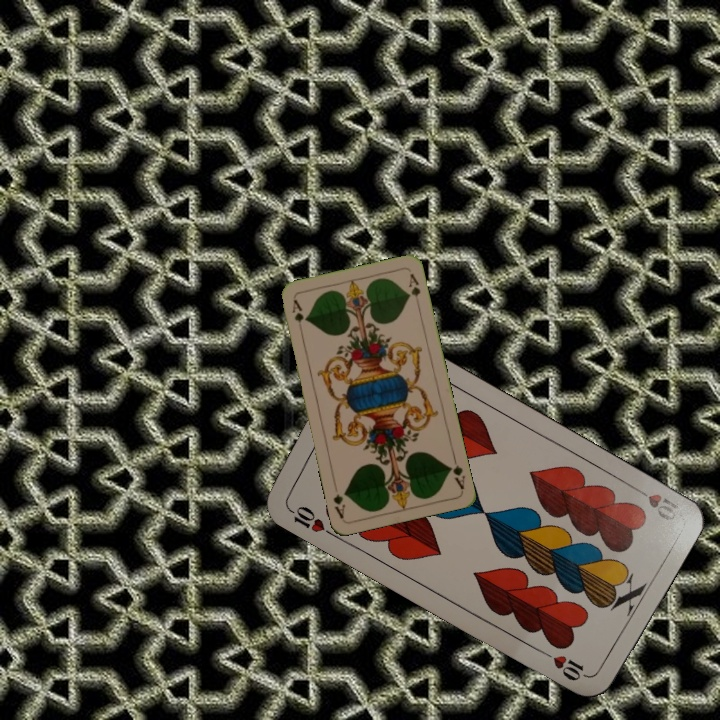GA: (444, 452, 467, 492), (288, 296, 306, 336)
H10: (628, 481, 683, 525), (282, 501, 336, 539)
